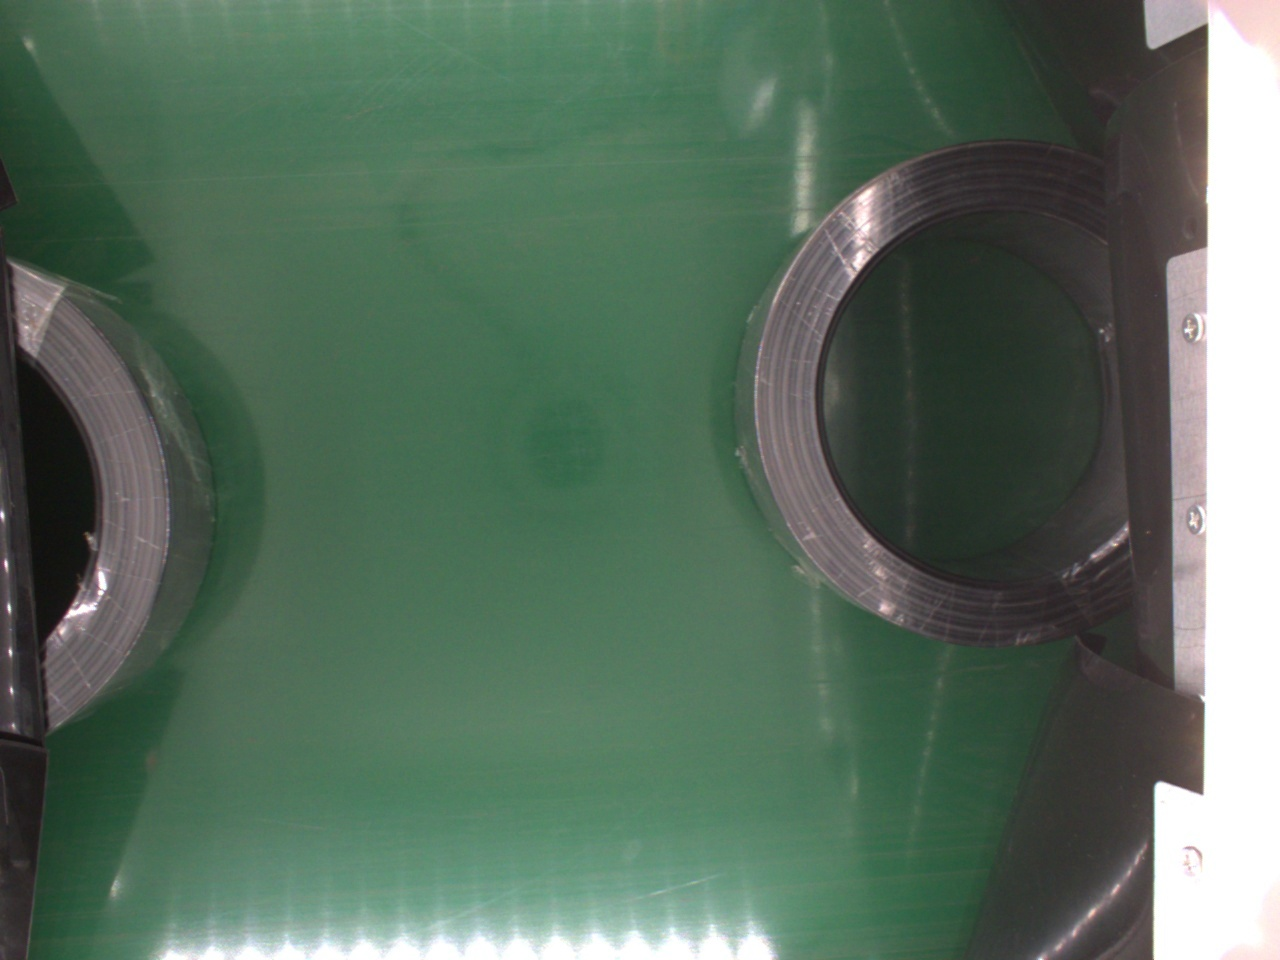black: (735, 141, 1158, 650), (14, 258, 210, 736)
